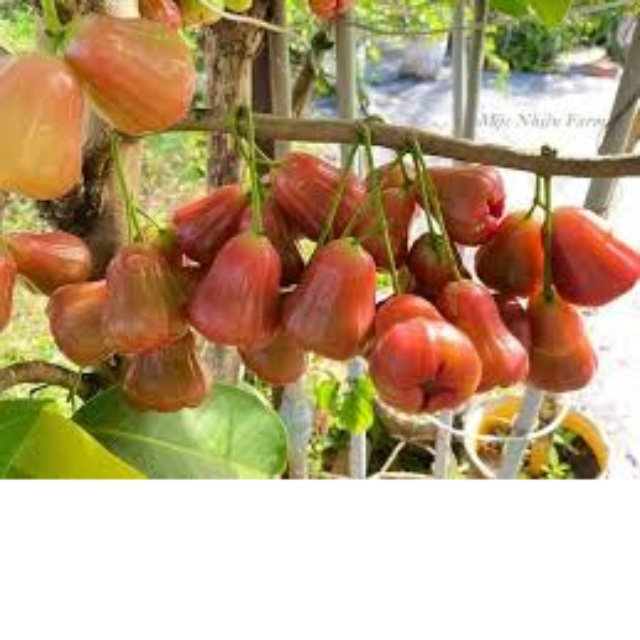xoai: (58, 15, 216, 138), (177, 229, 289, 352), (276, 234, 388, 355), (371, 288, 476, 417), (1, 48, 86, 205), (442, 276, 538, 408), (98, 241, 190, 361), (540, 206, 640, 310), (269, 148, 375, 239)
